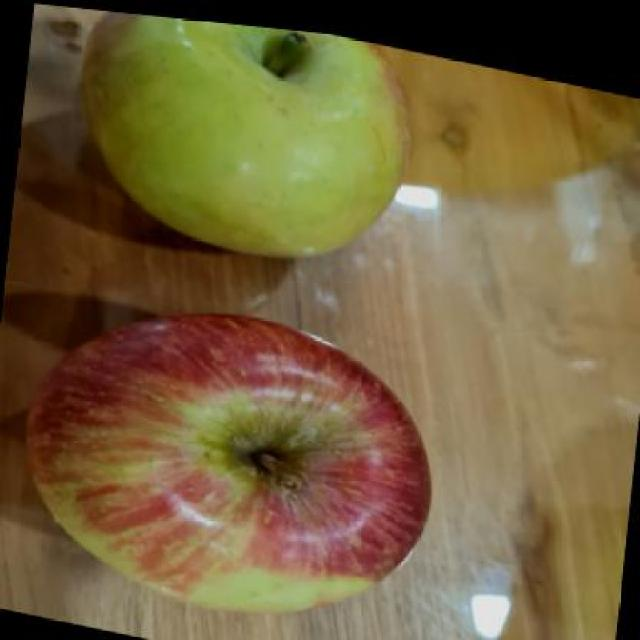Fresh Apple: (22, 311, 431, 604), (74, 8, 428, 262)
